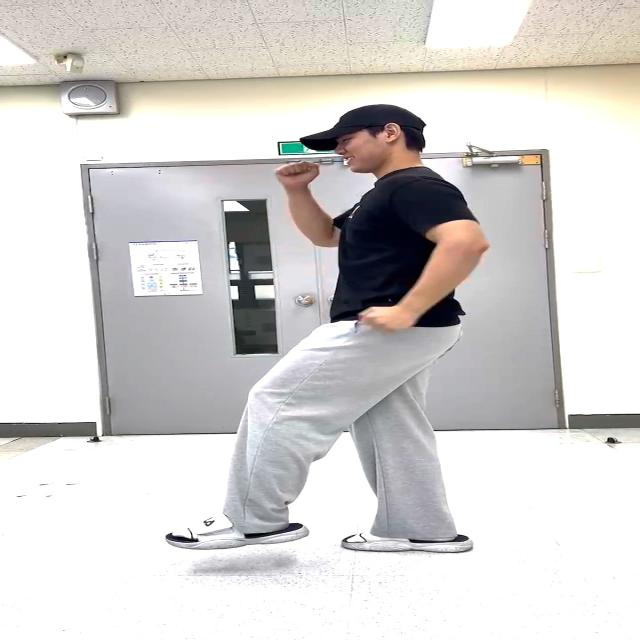leg: (147, 327, 399, 563)
